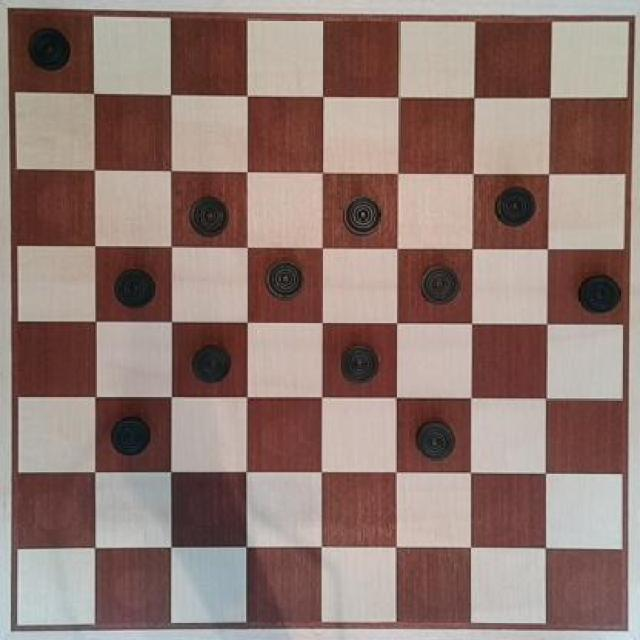BOARD: (10, 7, 629, 630)
black: (21, 22, 75, 74), (184, 188, 238, 240), (411, 259, 463, 313), (110, 260, 160, 316), (338, 186, 389, 239), (184, 338, 240, 386), (488, 182, 541, 232), (260, 254, 308, 305), (409, 416, 464, 460), (574, 265, 621, 315), (339, 336, 384, 386), (108, 414, 156, 460)
